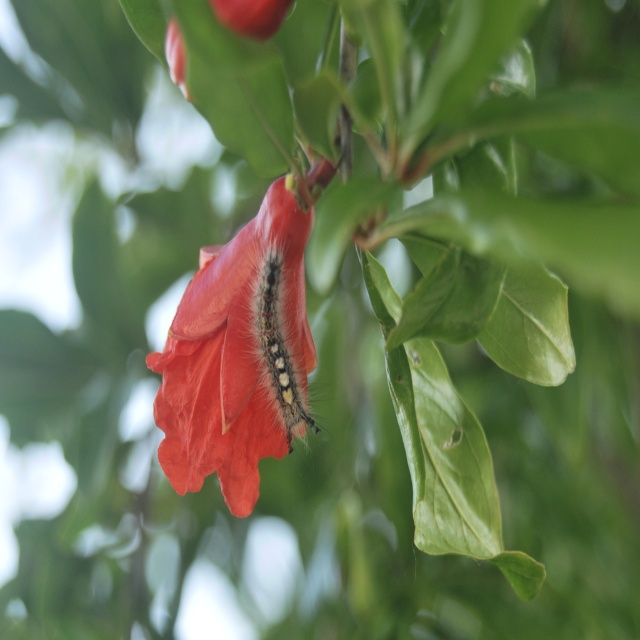Caterpillar: (241, 225, 334, 457)
